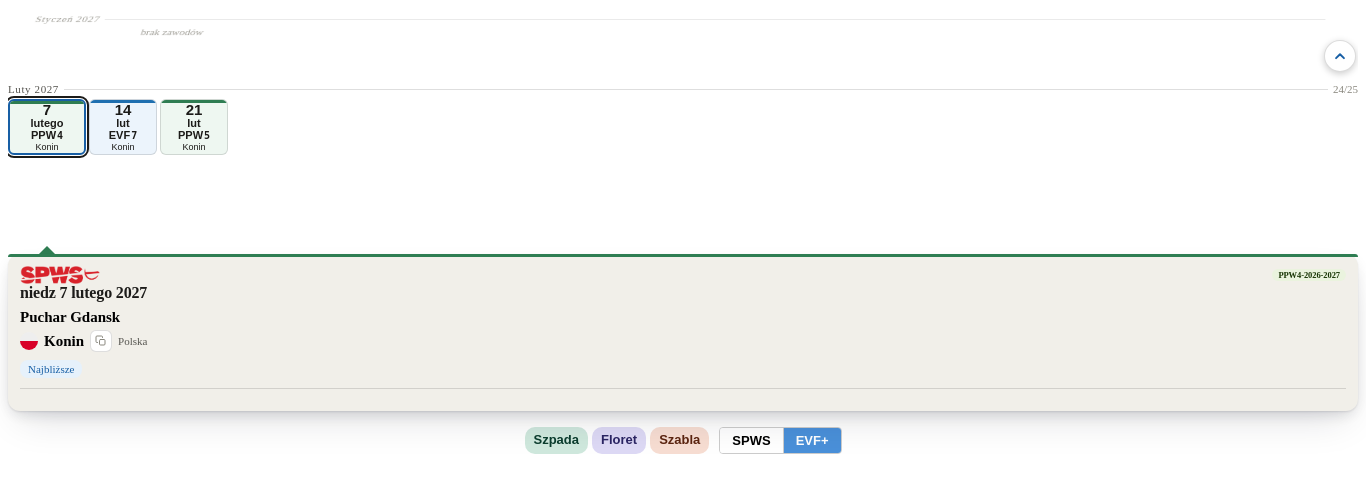
Scenario: CalendarView orchestrator (ADR-084) › CV.8: swaps the card when a panel is selected
Click the button "14 lut EVF7 Konin": click(123, 127) x1=89 y1=99 x2=157 y2=155
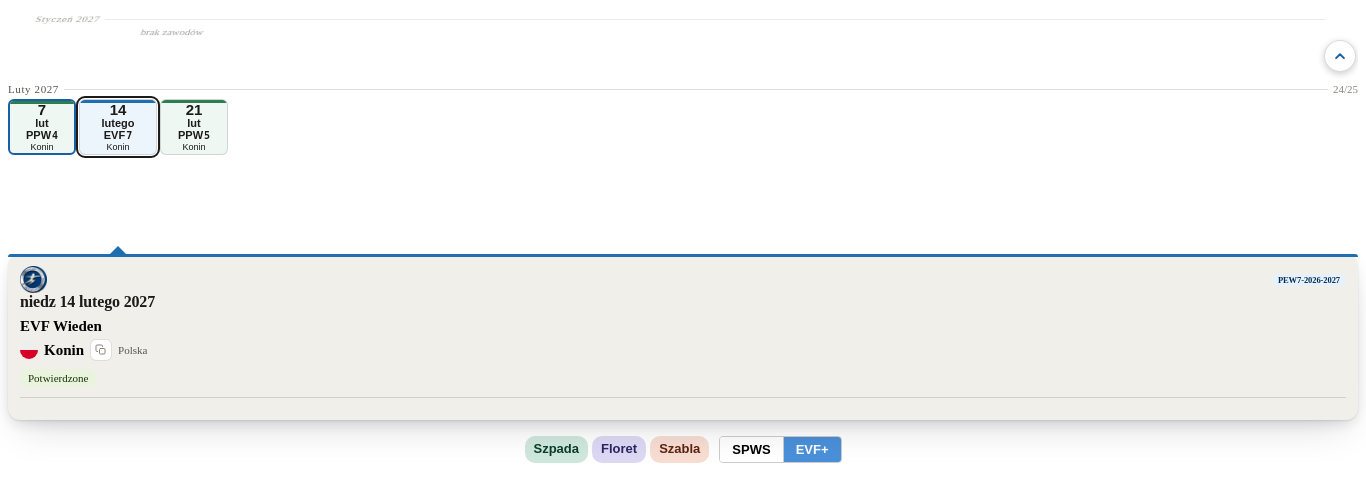
Check: the text with class "cnm" reads "EVF Wieden", box x1=20 y1=318 x2=102 y2=334
